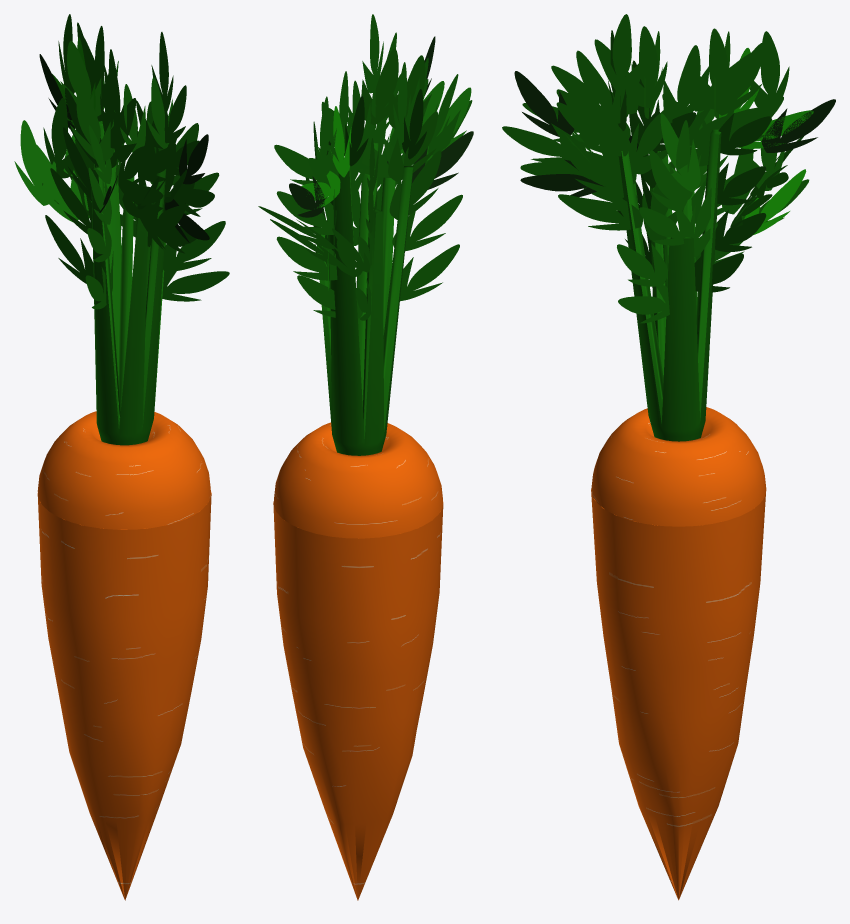
The model's file is 紅蘿蔔成熟.FBX.
3 views of the same model, side by side, from view 1: azimuth 30°, elevation 25°; view 2: azimuth 150°, elevation 25°; view 3: azimuth 270°, elevation 25° (orthographic). The views are drawn at different scales.
Parts seen in each view (by area): view 1: Cone001, Sphere001, Cone002, Line014, Line025, Line024, Line048, Line053, Line055, Line010, Line039, Line038 (+23 smaller); view 2: Cone001, Cone002, Sphere001, Line043, Line005, Line042, Line041, Line032, Line040, Line066, Line031, Line034 (+19 smaller); view 3: Cone001, Sphere001, Cone002, Line002, Line045, Line009, Line017, Line001, Line004, Line019, Line056, Line003 (+21 smaller).
Part boxes in pixels (left/top/right/bottom): Cone001: left=37, top=492, right=211, bottom=900; Sphere001: left=37, top=411, right=211, bottom=529; Cone002: left=91, top=121, right=165, bottom=445; Line014: left=70, top=84, right=114, bottom=161; Line025: left=163, top=221, right=225, bottom=271; Line024: left=162, top=271, right=229, bottom=301; Line048: left=43, top=97, right=80, bottom=178; Line053: left=14, top=120, right=56, bottom=205; Line055: left=32, top=145, right=82, bottom=222; Line010: left=60, top=41, right=104, bottom=116; Line039: left=45, top=215, right=93, bottom=283; Line038: left=50, top=168, right=92, bottom=234; Cone001: left=273, top=502, right=443, bottom=900; Cone002: left=317, top=143, right=413, bottom=455; Sphere001: left=273, top=422, right=442, bottom=538; Line043: left=400, top=244, right=459, bottom=301; Line005: left=361, top=48, right=398, bottom=125; Line042: left=392, top=194, right=462, bottom=251; Line041: left=389, top=150, right=441, bottom=219; Line032: left=276, top=236, right=337, bottom=280; Line040: left=388, top=111, right=437, bottom=181; Line066: left=412, top=131, right=473, bottom=189; Line031: left=276, top=191, right=334, bottom=234; Line034: left=388, top=55, right=431, bottom=128; Cone001: left=591, top=489, right=765, bottom=900; Sphere001: left=591, top=407, right=766, bottom=526; Cone002: left=618, top=129, right=721, bottom=441; Line002: left=556, top=102, right=630, bottom=156; Line045: left=762, top=99, right=835, bottom=152; Line009: left=712, top=42, right=764, bottom=115; Line017: left=558, top=190, right=642, bottom=230; Line001: left=603, top=14, right=647, bottom=95; Line004: left=576, top=50, right=628, bottom=123; Line019: left=560, top=139, right=623, bottom=197; Line056: left=514, top=71, right=574, bottom=136; Line003: left=628, top=102, right=678, bottom=174.
Size of the model in its own units: 28.32 by 161 by 53.97.
Materials: 4 (1 with a texture image).
